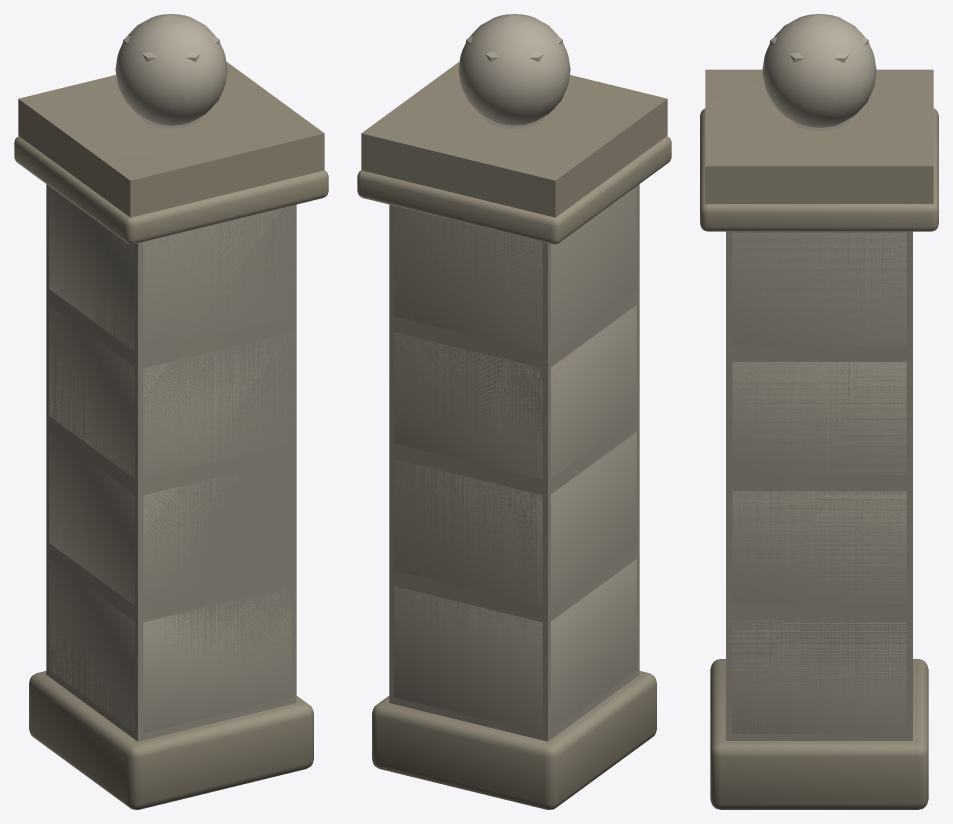
The model's file is verja_pilar.glb.
3 renders of one model, left to right at view 1: azimuth 30°, elevation 25°; view 2: azimuth 150°, elevation 25°; view 3: azimuth 270°, elevation 25°, orthographic.
Visible parts, largest first — view 1: hd, lo; view 2: hd, lo; view 3: hd, lo.
Part boxes in pixels (box(x1,y1,x2,y2)): hd: box(14, 14, 328, 809); lo: box(18, 14, 324, 741); hd: box(357, 14, 671, 809); lo: box(361, 14, 667, 741); hd: box(700, 14, 938, 809); lo: box(705, 14, 933, 740).
Bounding box in the file's own units: 0.46 × 1.6 × 0.46.
